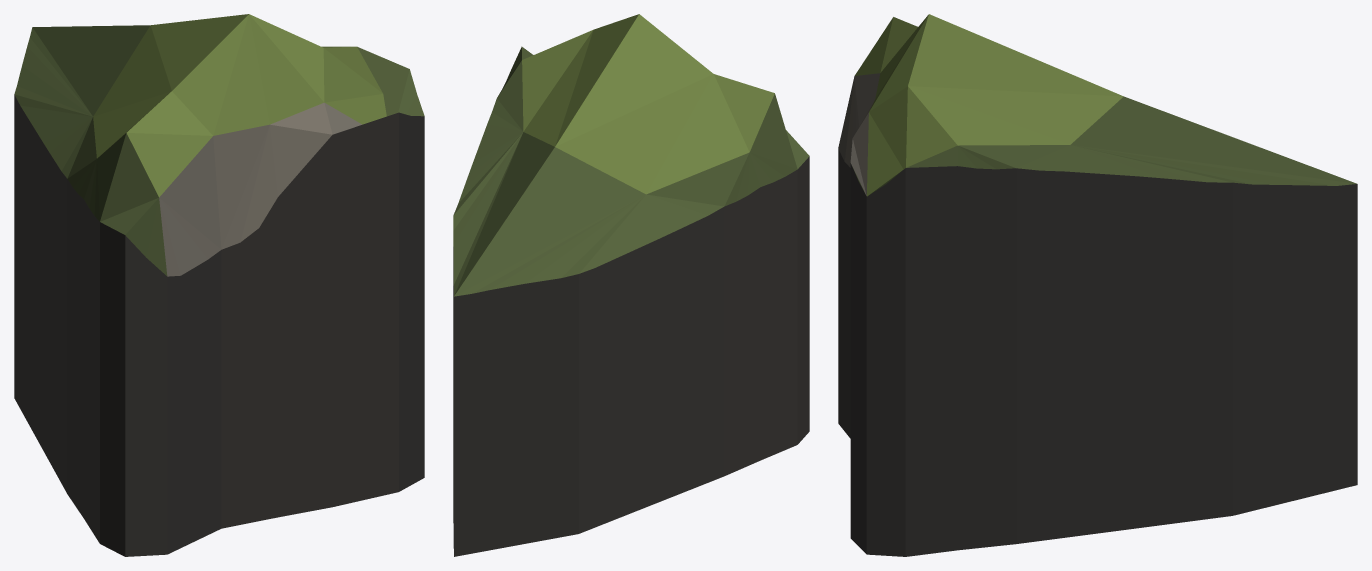
File: cliff_sections_10c_western_slab.glb
3 views of the same model, side by side, from view 1: azimuth 30°, elevation 25°; view 2: azimuth 150°, elevation 25°; view 3: azimuth 270°, elevation 25° (orthographic). The views are drawn at different scales.
Parts seen in each view (by area): view 1: Front columns study; view 2: Front columns study; view 3: Front columns study.
Boxes of the visible parts, x1,y1,x2,y2 form: Front columns study: (14,14,424,556); Front columns study: (453,14,809,556); Front columns study: (838,14,1357,556).
Bounding box in the file's own units: 55.6 × 80 × 79.97.
